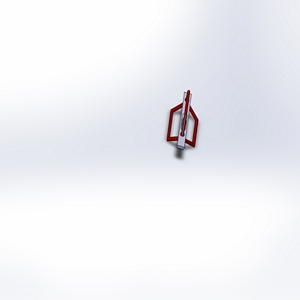submarine: (148, 84, 233, 169)
